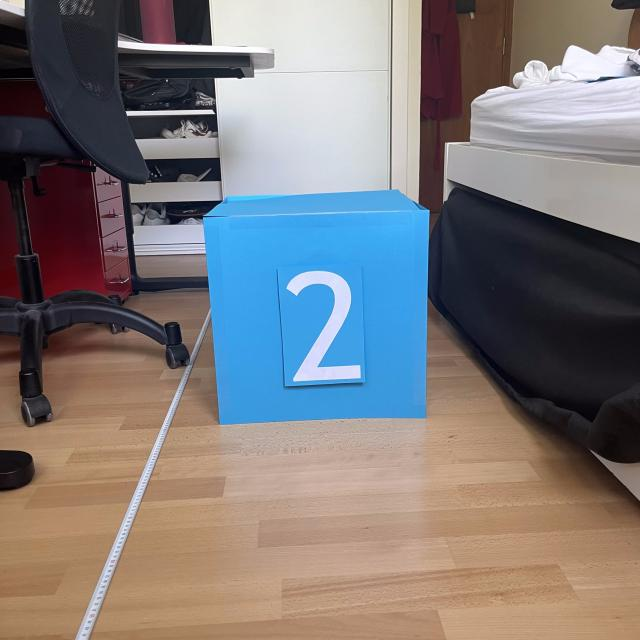box: (198, 185, 433, 427)
